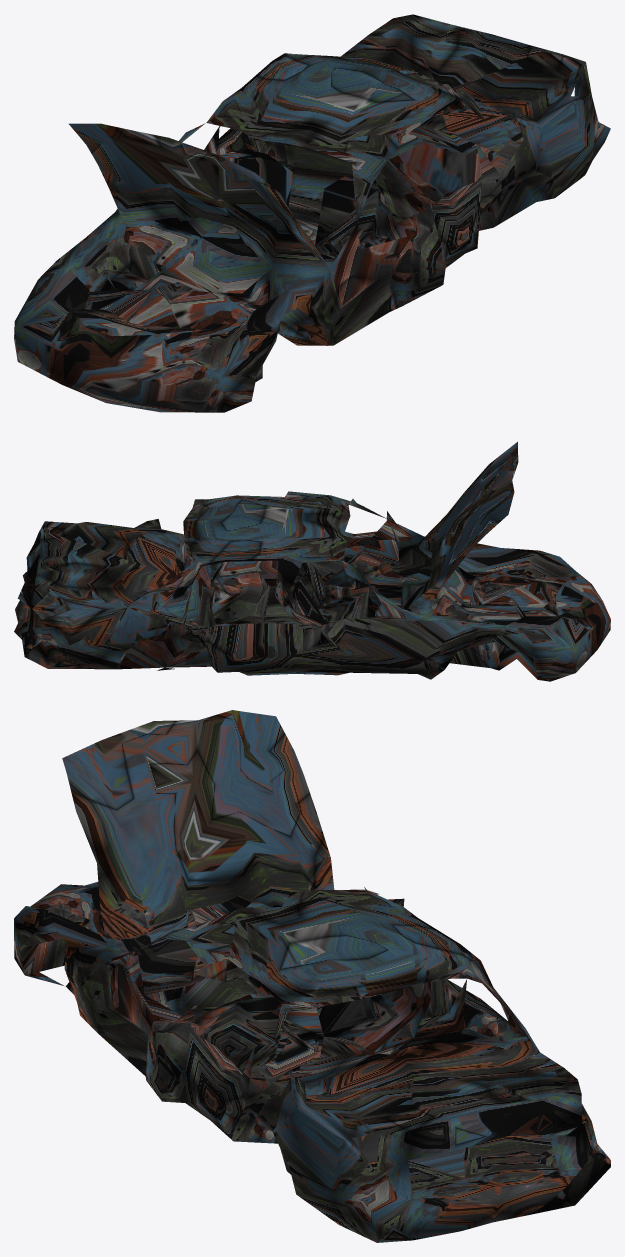
The model's file is abandoned_sedan_2.glb.
3 views of the same model, one above another, from view 1: azimuth 30°, elevation 25°; view 2: azimuth 150°, elevation 25°; view 3: azimuth 270°, elevation 25° (orthographic). The views are drawn at different scales.
Visible parts, largest first — view 1: abandoned_sedan_2; view 2: abandoned_sedan_2; view 3: abandoned_sedan_2.
Part boxes in pixels (box(x1,y1,x2,y2)): abandoned_sedan_2: box(14, 14, 610, 412); abandoned_sedan_2: box(14, 441, 610, 681); abandoned_sedan_2: box(14, 710, 610, 1242).
Size of the model in its own units: 49.36 by 16.95 by 35.91.
Materials: 1 (1 with a texture image).
